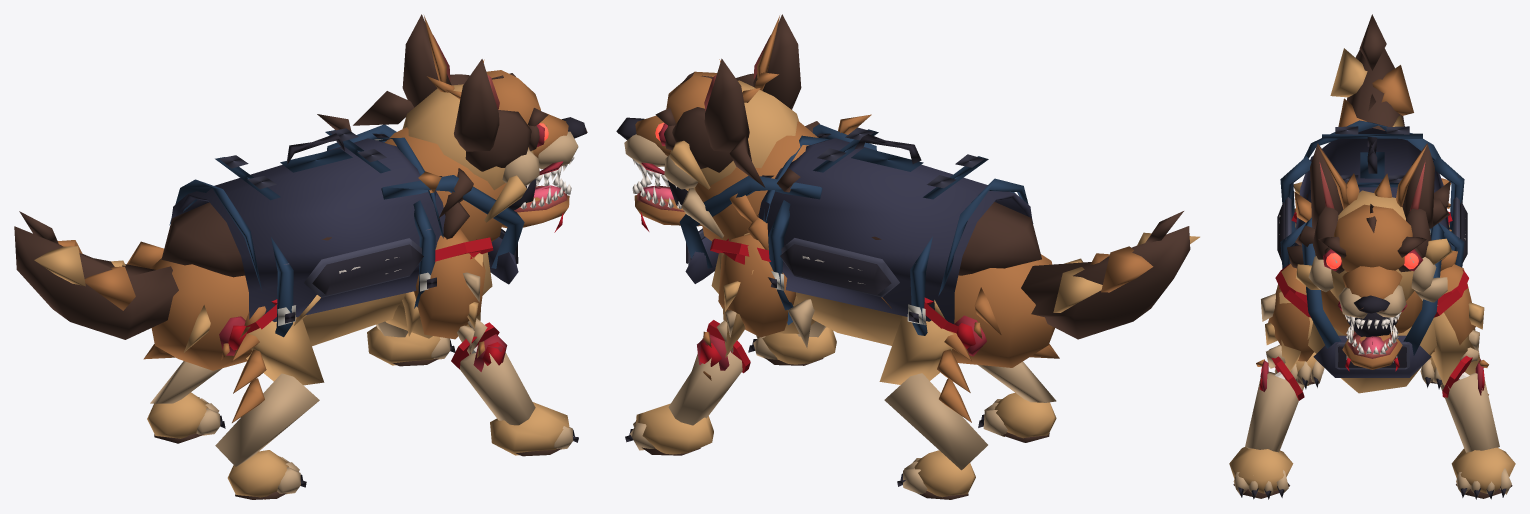
The model's file is inf.dog-k9.lod1.glb.
3 renders of one model, left to right at view 1: azimuth 30°, elevation 25°; view 2: azimuth 150°, elevation 25°; view 3: azimuth 270°, elevation 25°, orthographic. The views are drawn at different scales.
Parts seen in each view (by area): view 1: body, head, tail, hip, neck, armR, torso, shinR, foreArmR, pawFR, legBR, pawBR (+6 smaller); view 2: body, head, tail, hip, neck, armL, torso, shinL, foreArmL, legBL, pawFL, pawBR (+5 smaller); view 3: head, body, torso, tail, foreArmL, neck, foreArmR, armR, pawFR, pawFL, armL, jaw (+8 smaller).
Part boxes in pixels (bbox=[...]): body: bbox=[161, 128, 445, 346]; head: bbox=[402, 14, 587, 222]; tail: bbox=[14, 211, 178, 339]; hip: bbox=[127, 241, 320, 370]; neck: bbox=[317, 91, 506, 241]; armR: bbox=[414, 229, 487, 355]; torso: bbox=[327, 124, 524, 338]; shinR: bbox=[215, 373, 319, 466]; foreArmR: bbox=[460, 334, 535, 425]; pawFR: bbox=[490, 402, 578, 456]; legBR: bbox=[246, 317, 324, 385]; pawBR: bbox=[227, 450, 306, 499]; body: bbox=[758, 127, 1041, 345]; head: bbox=[616, 14, 801, 238]; tail: bbox=[1021, 211, 1199, 339]; hip: bbox=[881, 254, 1082, 367]; neck: bbox=[695, 114, 871, 250]; armL: bbox=[716, 234, 796, 352]; torso: bbox=[679, 124, 876, 348]; shinL: bbox=[884, 373, 987, 470]; foreArmL: bbox=[668, 331, 750, 425]; legBL: bbox=[879, 316, 953, 384]; pawFL: bbox=[625, 403, 713, 455]; pawBR: bbox=[978, 392, 1056, 442]; head: bbox=[1296, 143, 1452, 336]; body: bbox=[1277, 120, 1467, 268]; torso: bbox=[1300, 217, 1444, 393]; tail: bbox=[1330, 14, 1413, 130]; foreArmL: bbox=[1440, 359, 1499, 452]; neck: bbox=[1287, 181, 1457, 335]; foreArmR: bbox=[1245, 359, 1304, 452]; armR: bbox=[1261, 264, 1313, 368]; pawFR: bbox=[1229, 447, 1293, 499]; pawFL: bbox=[1451, 447, 1515, 499]; armL: bbox=[1433, 264, 1484, 361]; jaw: bbox=[1342, 325, 1402, 371].
Size of the model in its own units: 1.44 by 0.9019 by 0.6924.
